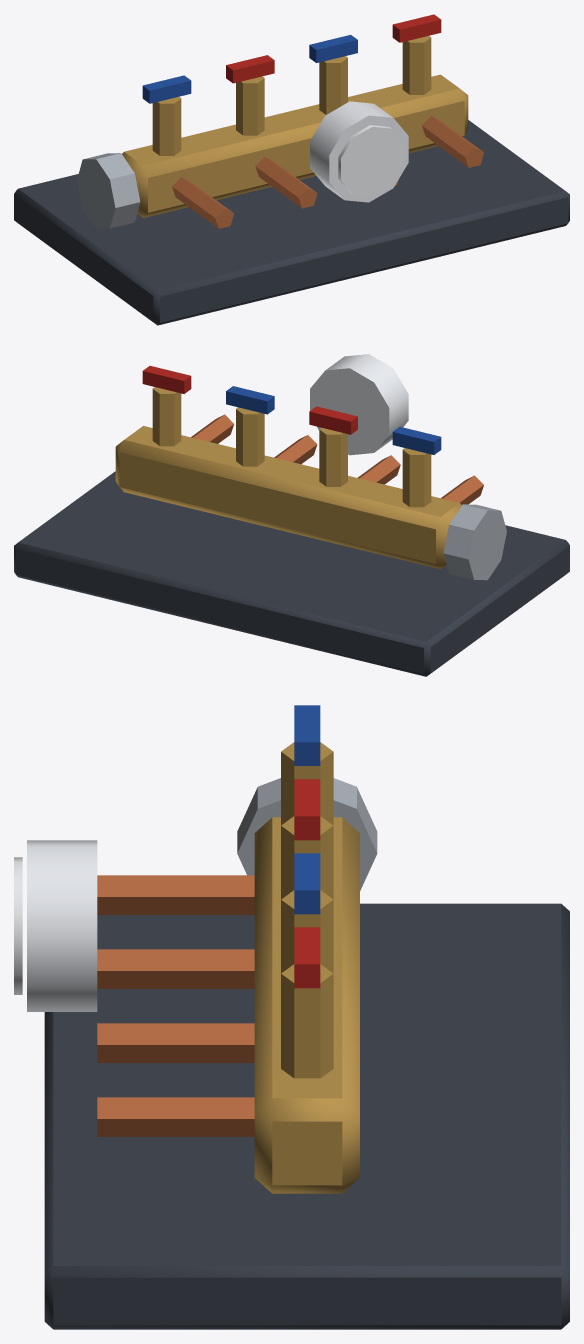
Rendered from valve_test_manifold.glb.
3 renders of one model, top to bottom at view 1: azimuth 30°, elevation 25°; view 2: azimuth 150°, elevation 25°; view 3: azimuth 270°, elevation 25°, orthographic. The views are drawn at different scales.
Parts seen in each view (by area): view 1: valve_test_manifold; view 2: valve_test_manifold; view 3: valve_test_manifold.
Part boxes in pixels (x1,y1,x2,y2): valve_test_manifold: [14, 14, 569, 325]; valve_test_manifold: [14, 354, 569, 676]; valve_test_manifold: [14, 705, 569, 1329].
Bounding box in the file's own units: 0.5 × 0.1975 × 0.3175.
